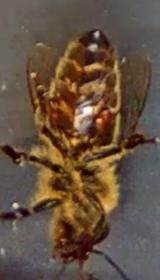varroa_mite: (74, 95, 120, 140), (39, 98, 70, 132)
